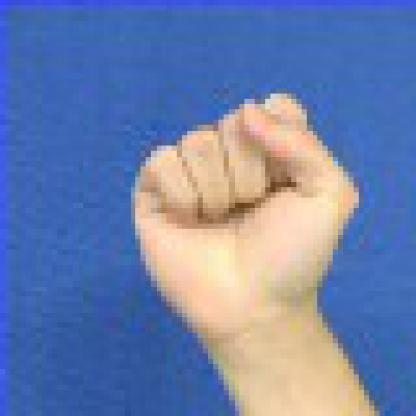zero: (82, 70, 401, 363)
